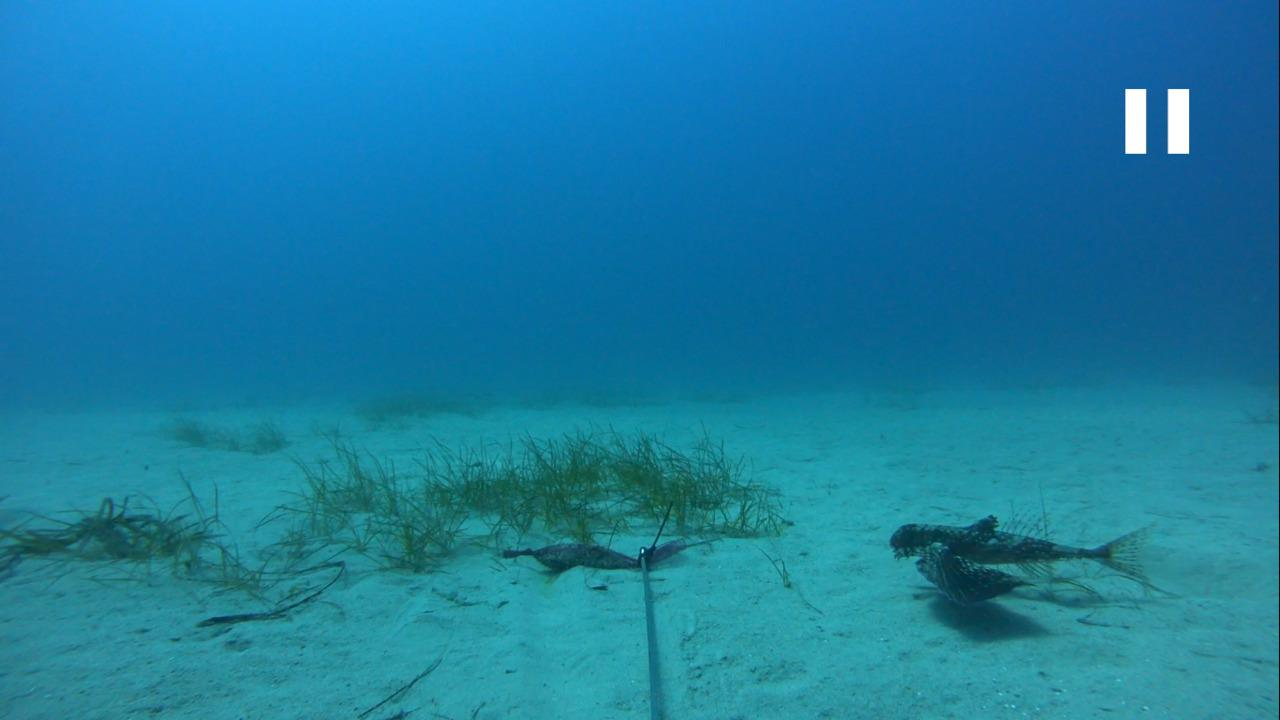dactylopterus: (886, 504, 1169, 611)
